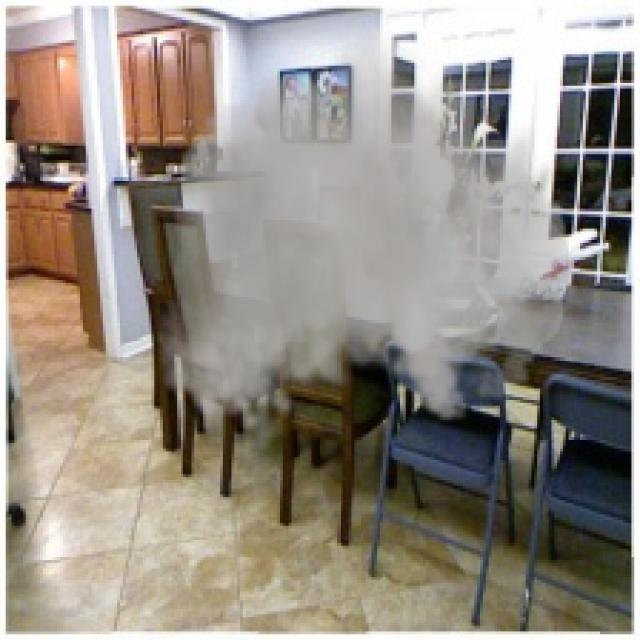smoke: (157, 17, 569, 434)
